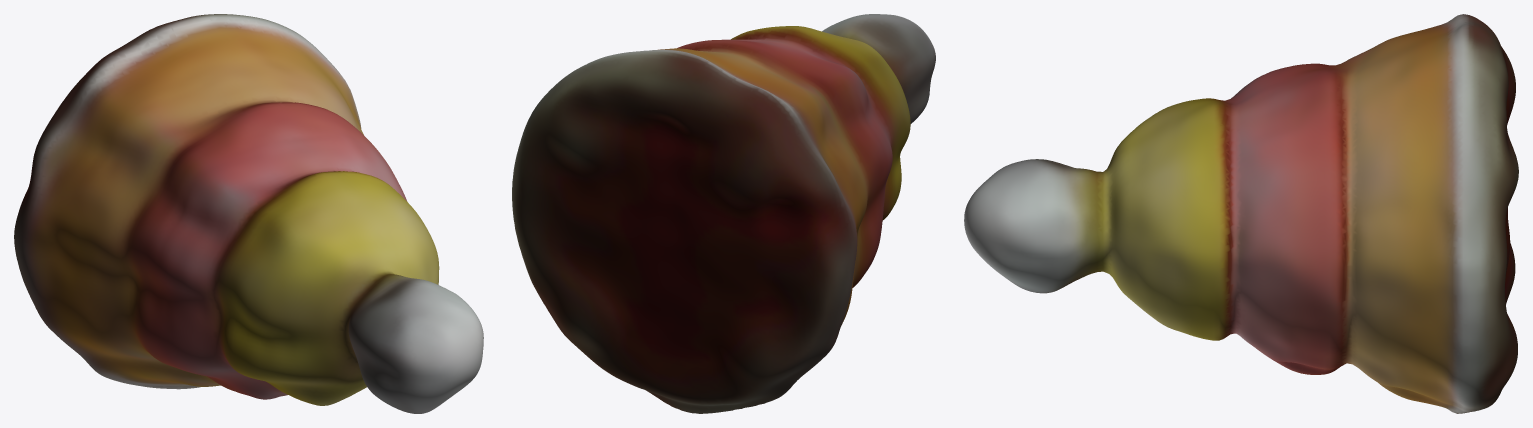
Rendered from chicken.glb.
3 renders of one model, left to right at view 1: azimuth 30°, elevation 25°; view 2: azimuth 150°, elevation 25°; view 3: azimuth 270°, elevation 25°, orthographic. The views are drawn at different scales.
Size of the model in its own units: 0.7212 by 0.7411 by 0.9997.
